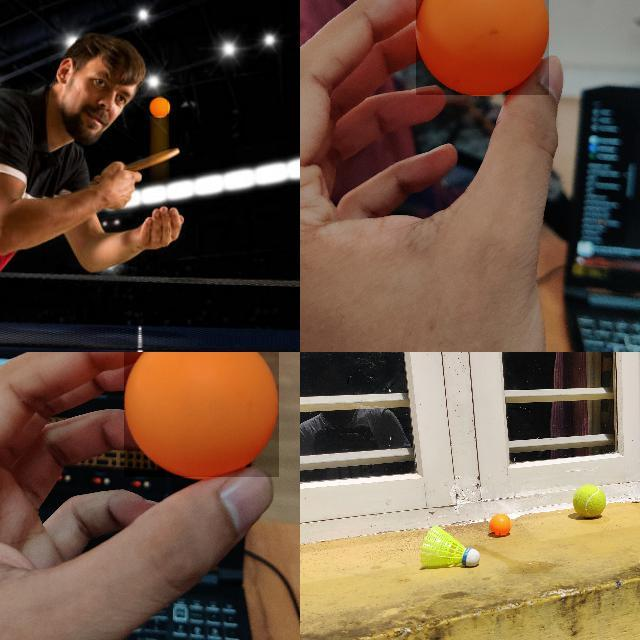ping-pong-ball: (124, 352, 280, 479), (416, 0, 551, 97), (489, 513, 511, 535), (148, 97, 170, 117)
